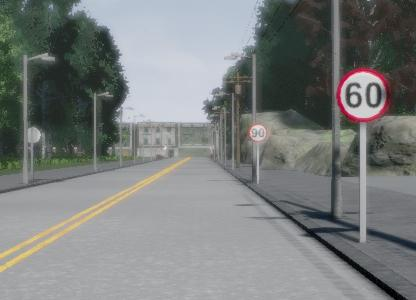Speed_60: (367, 49, 416, 117)
